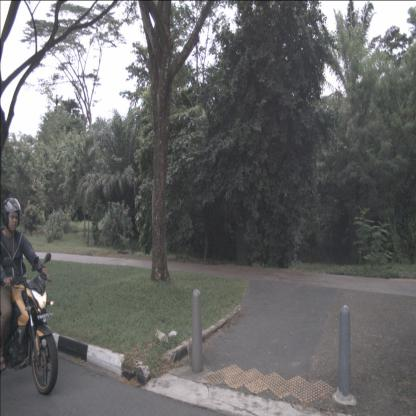vehicle-motorcycle: (0, 197, 59, 396)
